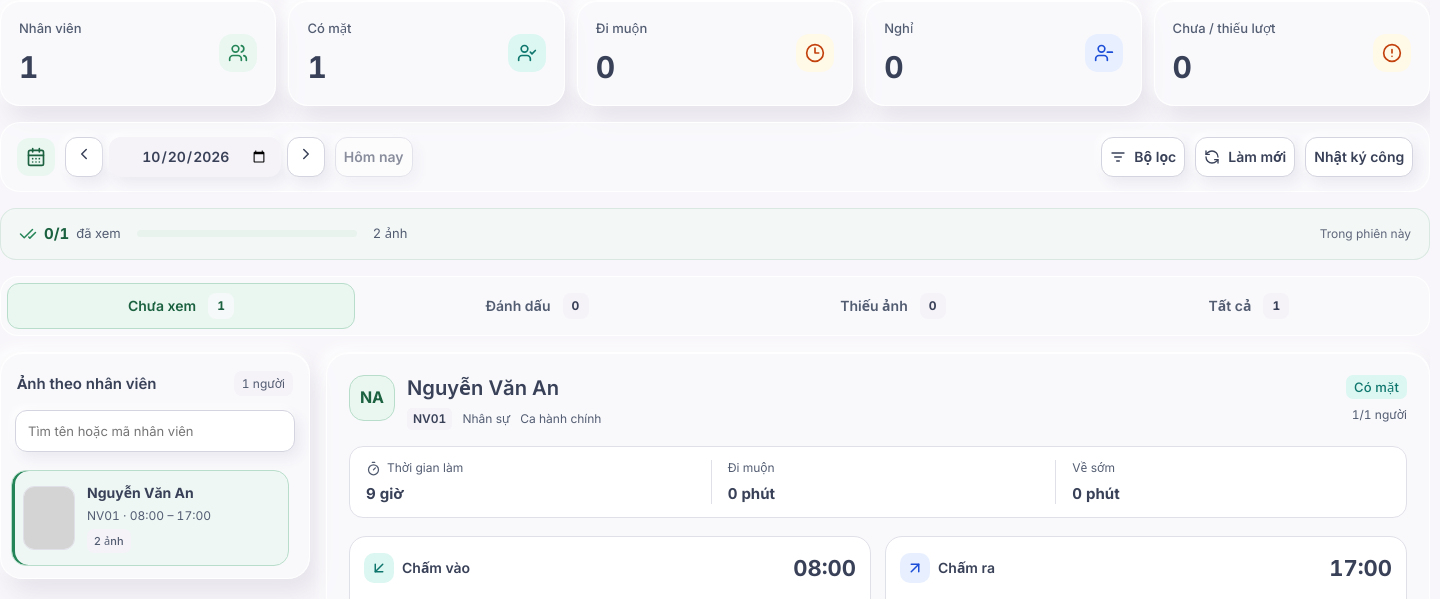
it: HR daily attendance photo workstation › clears old employee evidence immediately while the newly selected day loads
The image size is (1440, 599).
Expected: the heading "Nguyễn Văn An" is shown, x1=407 y1=375 x2=559 y2=400
Step 1. Type "2026-09-30" into the date field named "Ngày" → {"x": 195, "y": 157}, box x1=109 y1=137 x2=281 y2=177
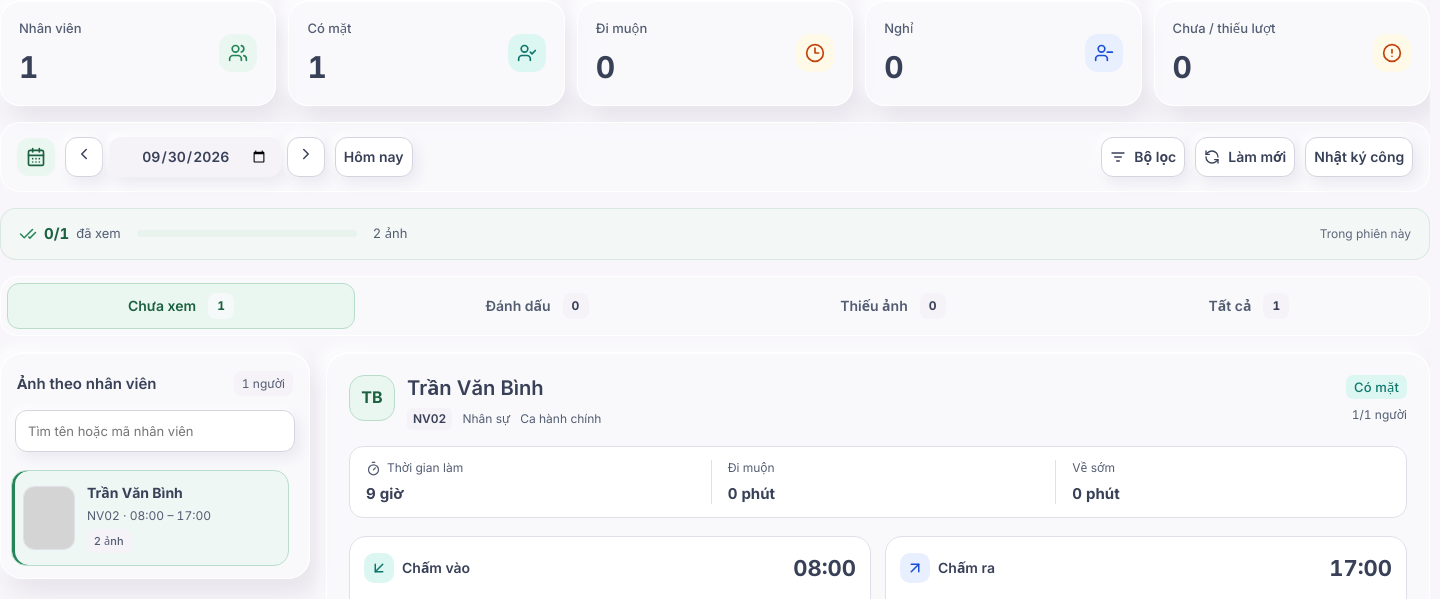
Expected: the button "Nguyễn Văn An" is gone
Expected: the heading "Trần Văn Bình" is shown, x1=407 y1=375 x2=544 y2=400
